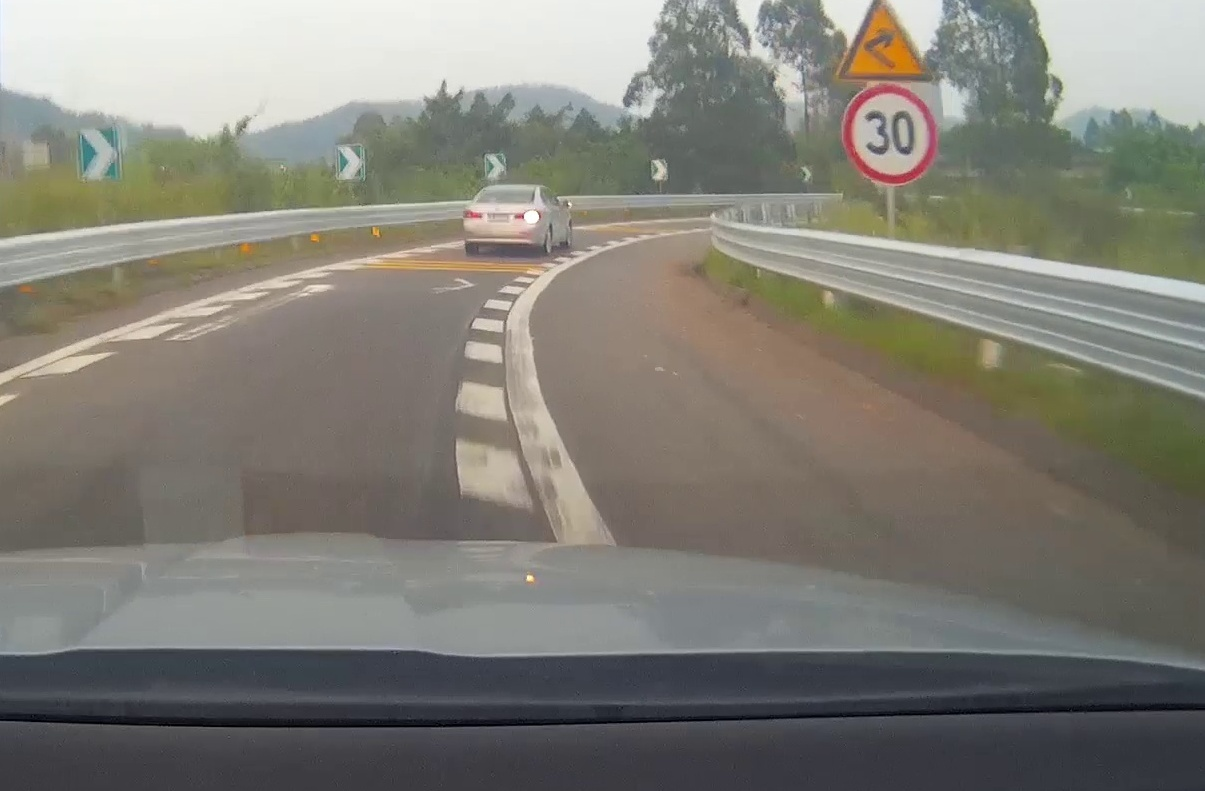L_light: (463, 208, 483, 218)
R_light: (515, 210, 541, 220)
T_light: (504, 187, 515, 191)
day-right: (462, 184, 542, 256)
